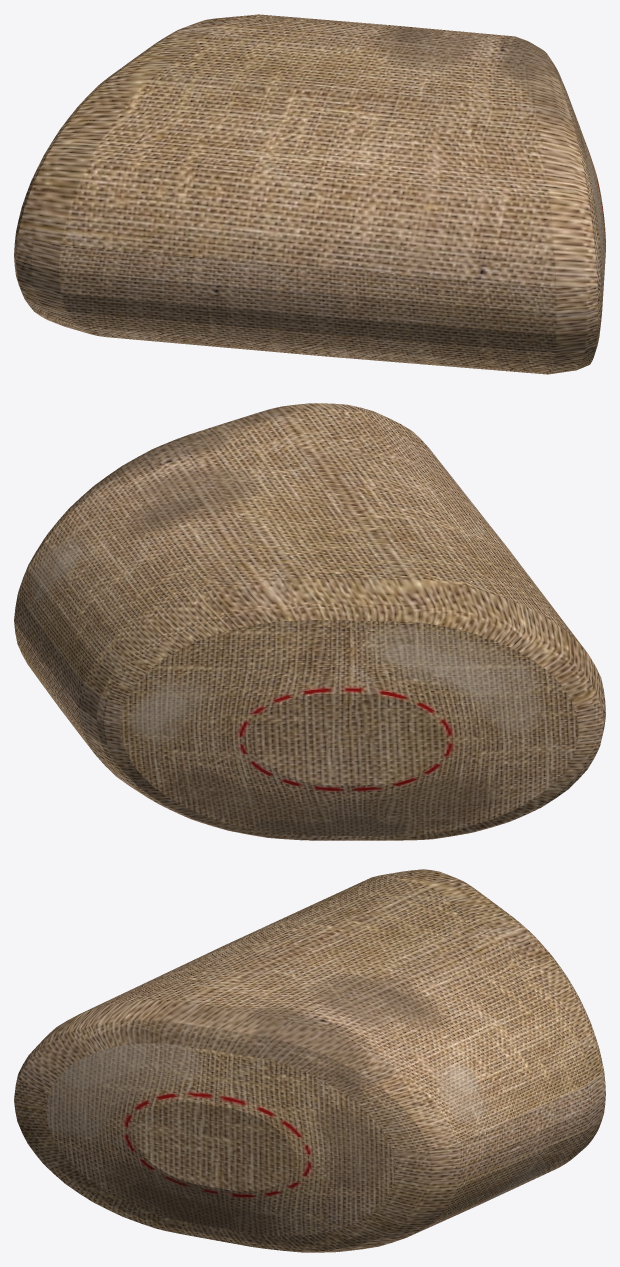
File: sacDeSable03.fbx
3 renders of one model, top to bottom at view 1: azimuth 30°, elevation 25°; view 2: azimuth 150°, elevation 25°; view 3: azimuth 270°, elevation 25°, orthographic. The views are drawn at different scales.
Visible parts, largest first — view 1: Cylinder.012; view 2: Cylinder.012; view 3: Cylinder.012.
Boxes of the visible parts, box(x1,y1,x2,y2) form: Cylinder.012: box(14, 14, 605, 374); Cylinder.012: box(14, 403, 605, 840); Cylinder.012: box(14, 869, 605, 1252).
Bounding box in the file's own units: 51.67 × 22.45 × 52.63.
